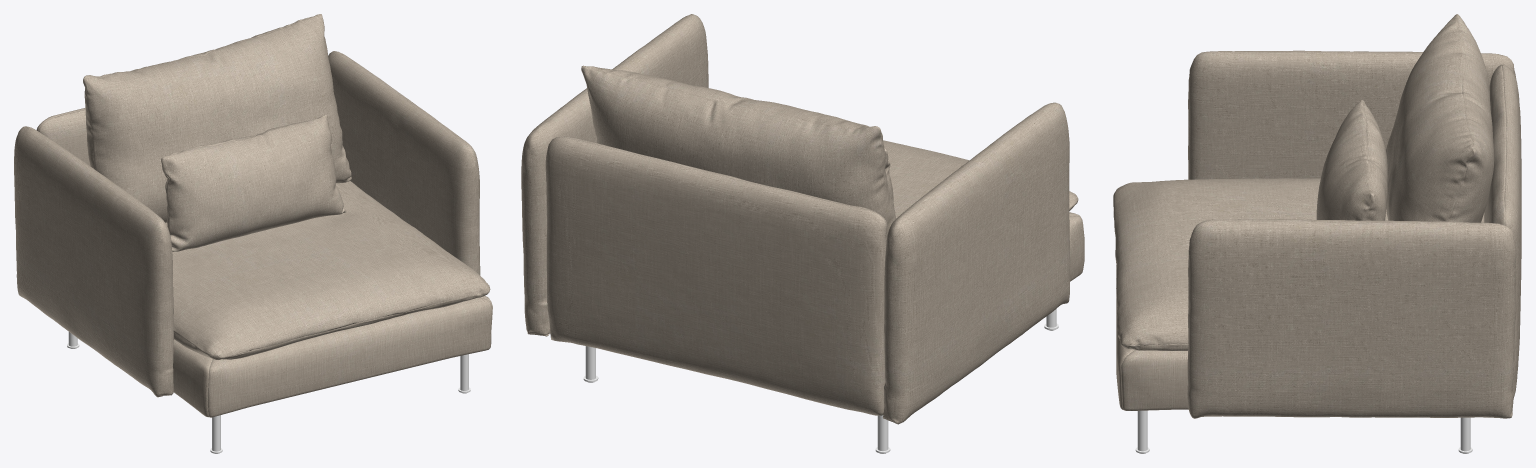
File: soderhamn-sillon-hillared-beige-99431246.glb
3 renders of one model, left to right at view 1: azimuth 30°, elevation 25°; view 2: azimuth 150°, elevation 25°; view 3: azimuth 270°, elevation 25°, orthographic. The views are drawn at different scales.
Visible parts, largest first — view 1: 59521338_armchair:1, 59521338_armchair:2; view 2: 59521338_armchair:1, 59521338_armchair:2; view 3: 59521338_armchair:1, 59521338_armchair:2.
Boxes of the visible parts, box(x1,y1,x2,y2) form: 59521338_armchair:1: box(14, 14, 492, 417); 59521338_armchair:2: box(67, 332, 470, 453); 59521338_armchair:1: box(521, 14, 1084, 424); 59521338_armchair:2: box(583, 309, 1058, 453); 59521338_armchair:1: box(1113, 14, 1521, 418); 59521338_armchair:2: box(1135, 410, 1472, 453).
Size of the model in its own units: 1.09 by 0.848 by 1.03.
3 materials, 1 textured.
